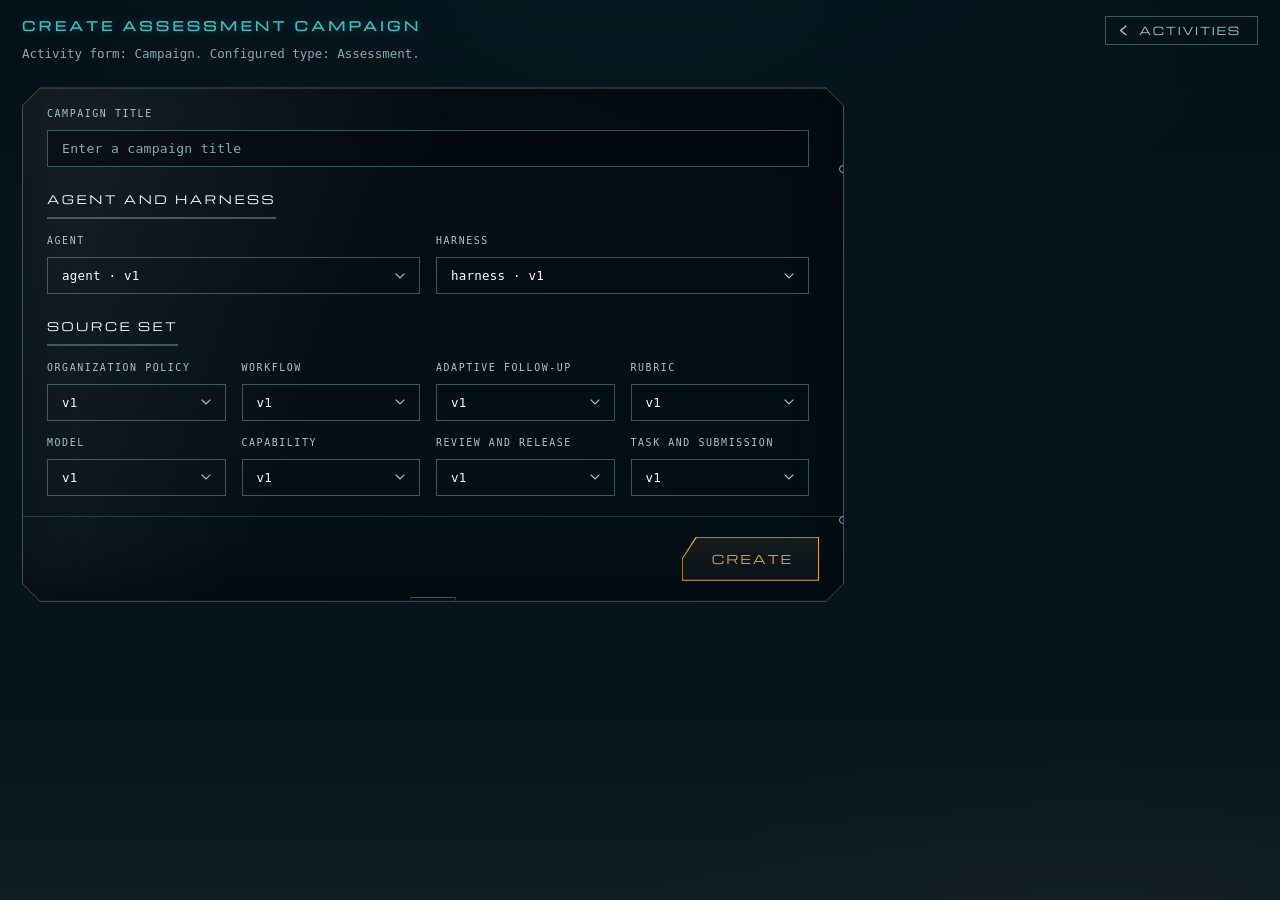
Test case: AssessmentCampaignCreatePage › removes protected create controls when access is lost
Step 1. Type "Local campaign" into the field labelled "Campaign title" → (428, 149), box [47,130,809,167]
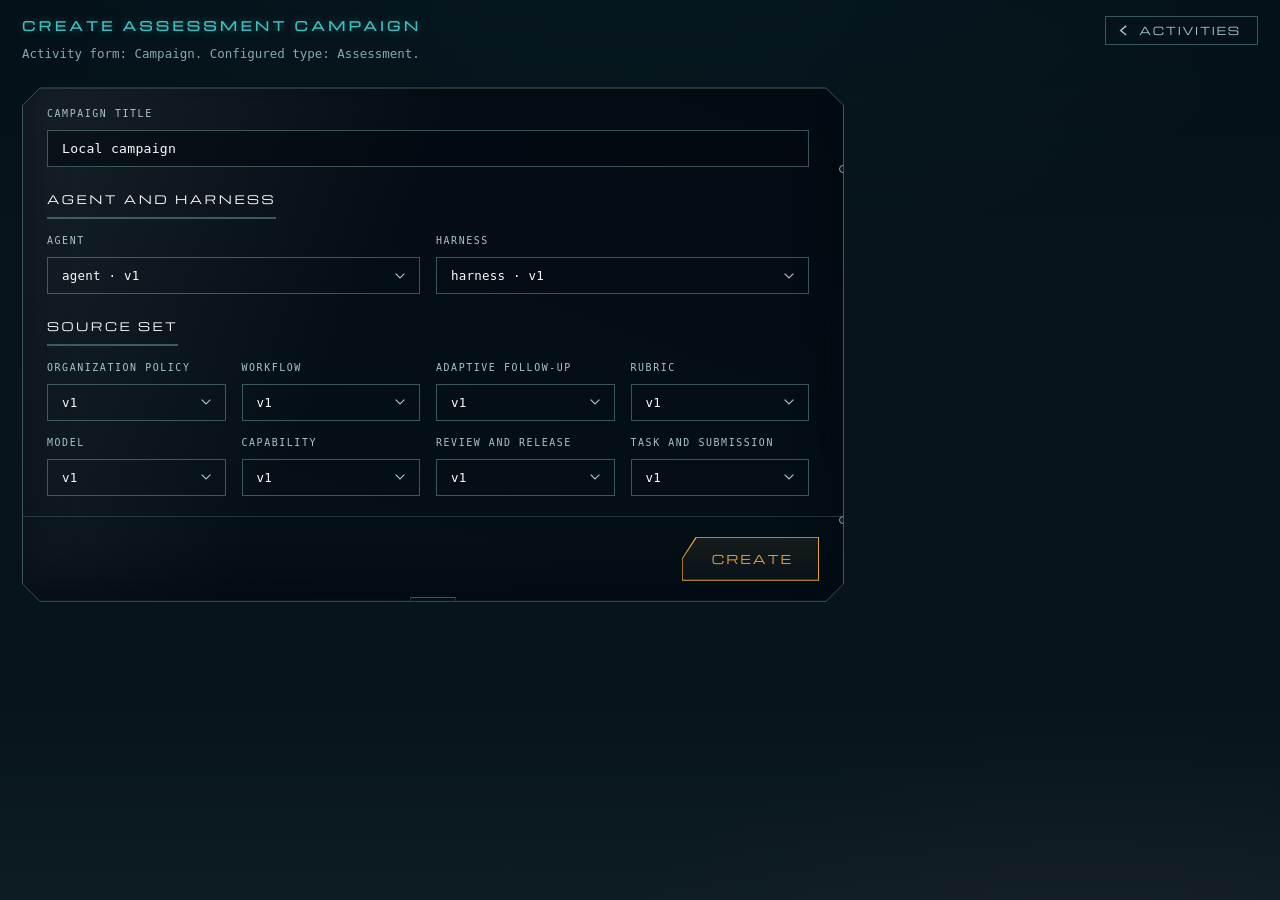
Step 2. Click the button "Create" → (750, 559), box [682,537,819,581]
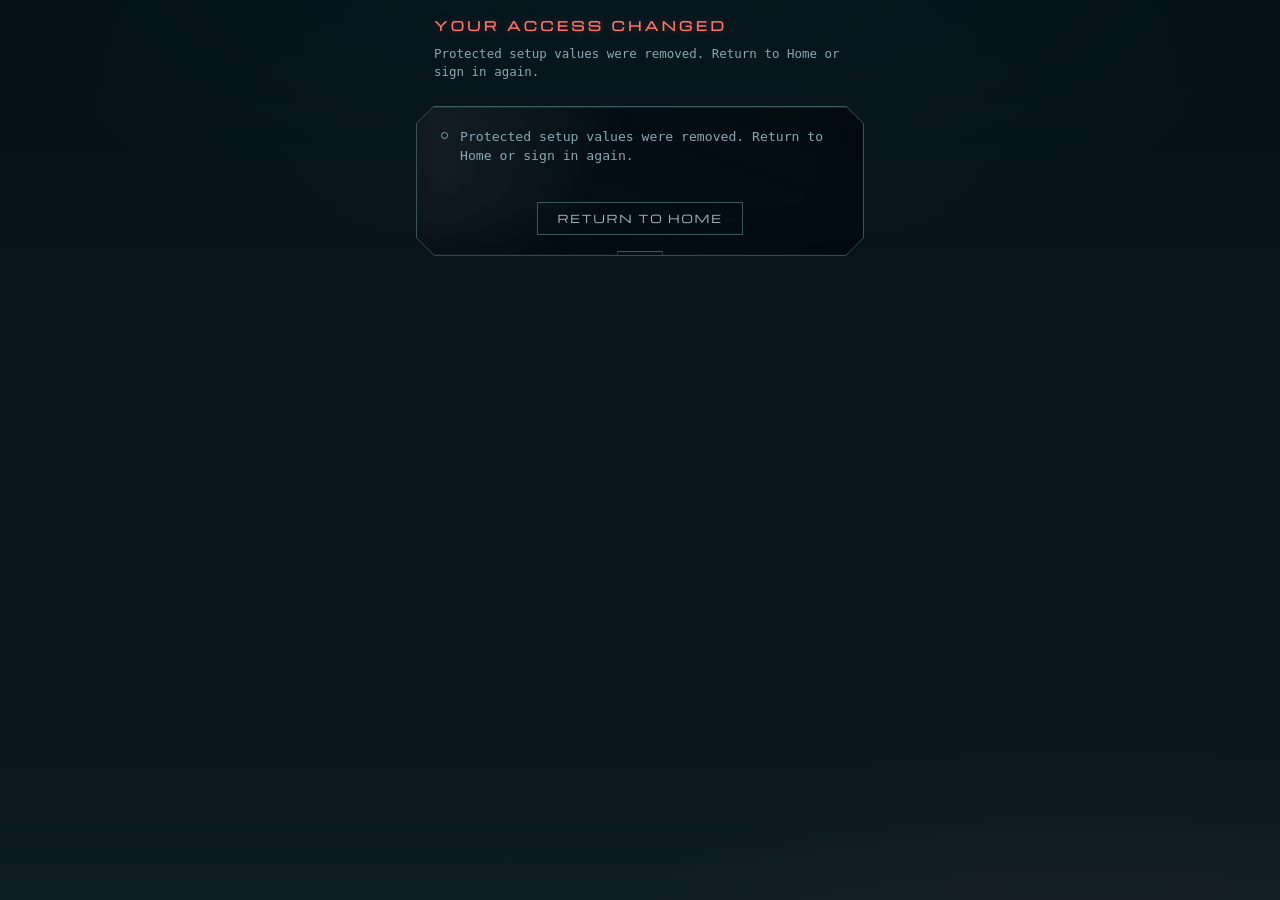
Result: the heading "Your access changed" is shown at [434,16,727,35]
Result: the label labelled "Campaign title" is gone
Result: the text labelled "Agent" is gone
